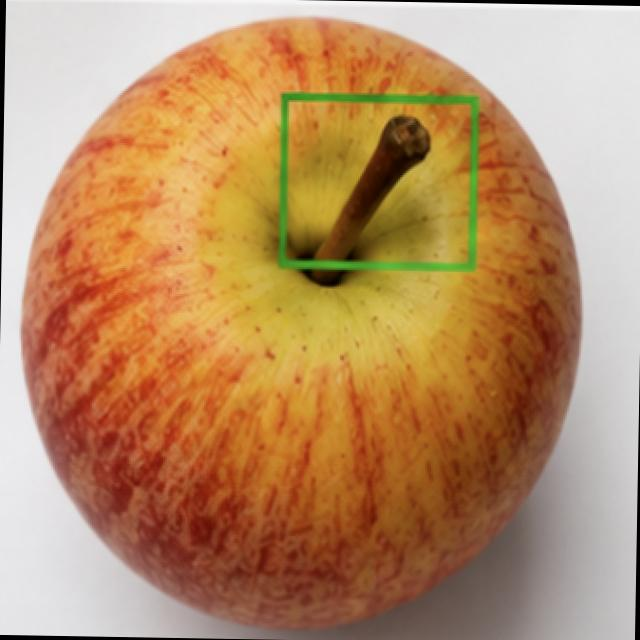Fruit-Stem-Detection: (285, 98, 473, 269), (309, 115, 428, 279)
